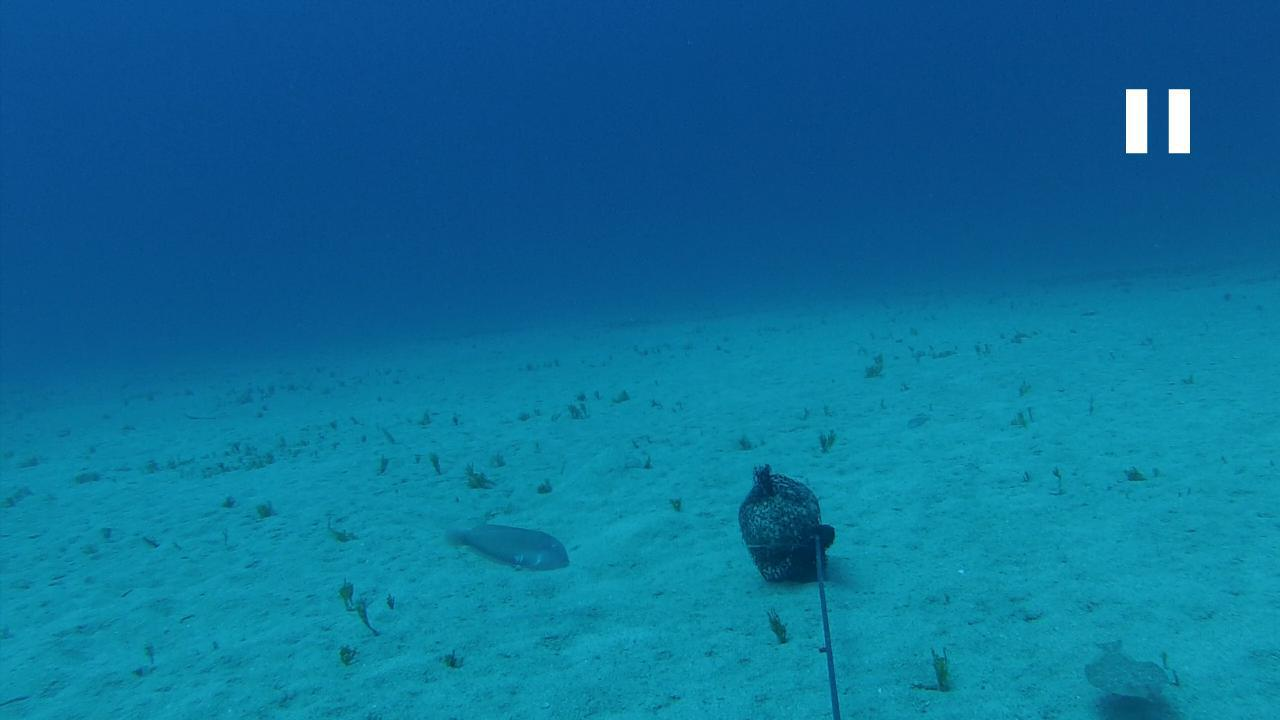bothus: (1070, 634, 1173, 706)
raor: (440, 519, 572, 577)
